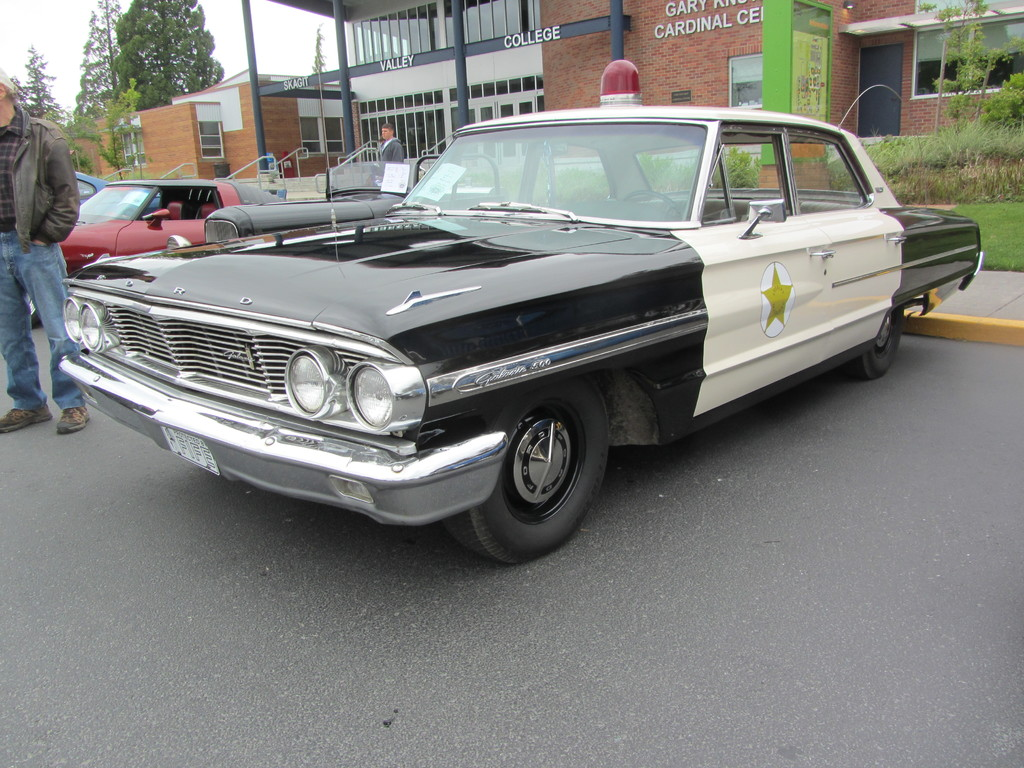mobil: (78, 124, 985, 553)
